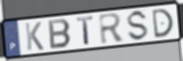B: (47, 18, 73, 50)
D: (151, 8, 175, 40)
K: (24, 21, 45, 52)
R: (97, 12, 126, 46)
S: (127, 9, 150, 43)
T: (75, 15, 95, 47)
